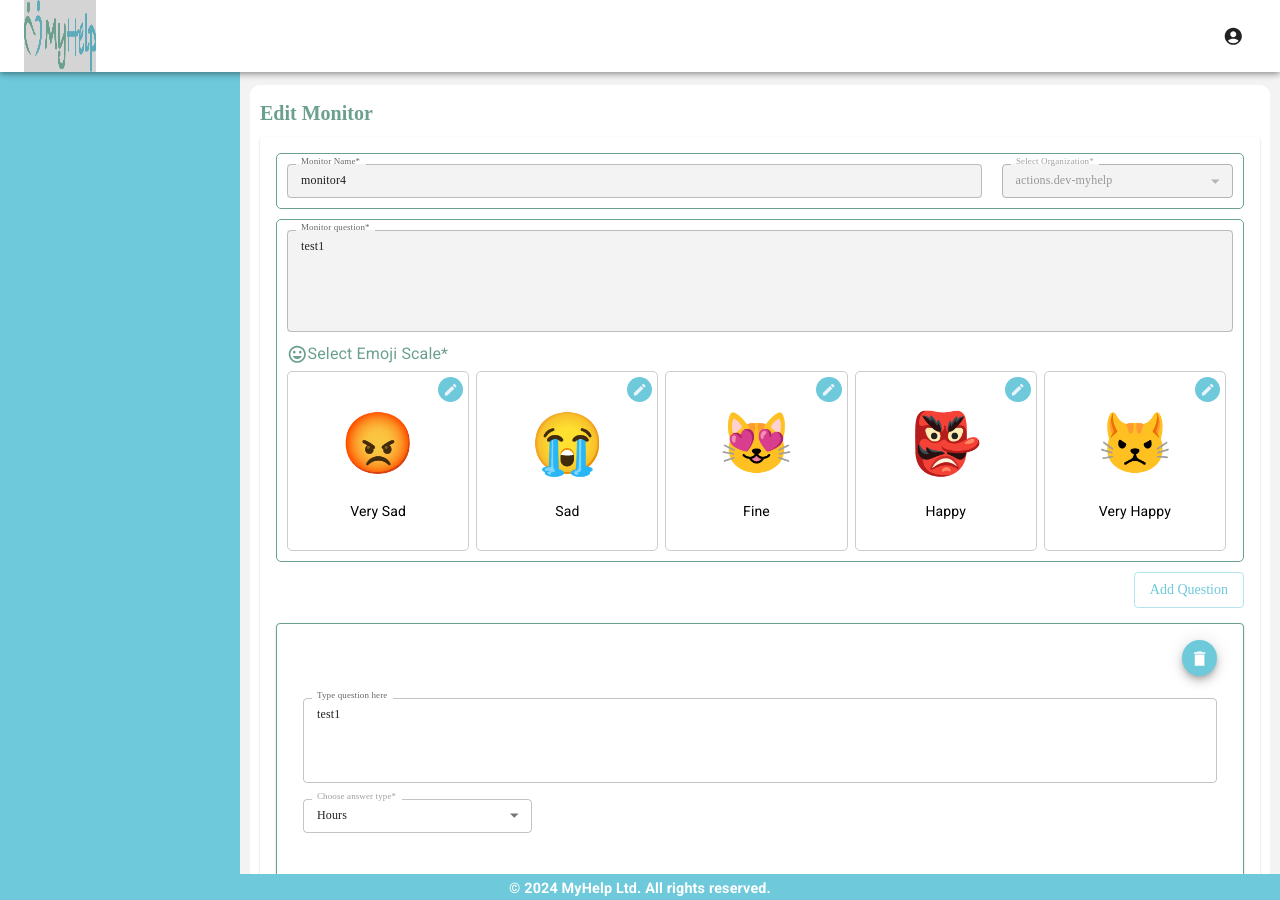
it: Admin edit monitor › should render delete question
Click the button with test id "iconButtonQuestion_1" at (1200, 658), box [1182,640,1217,676]
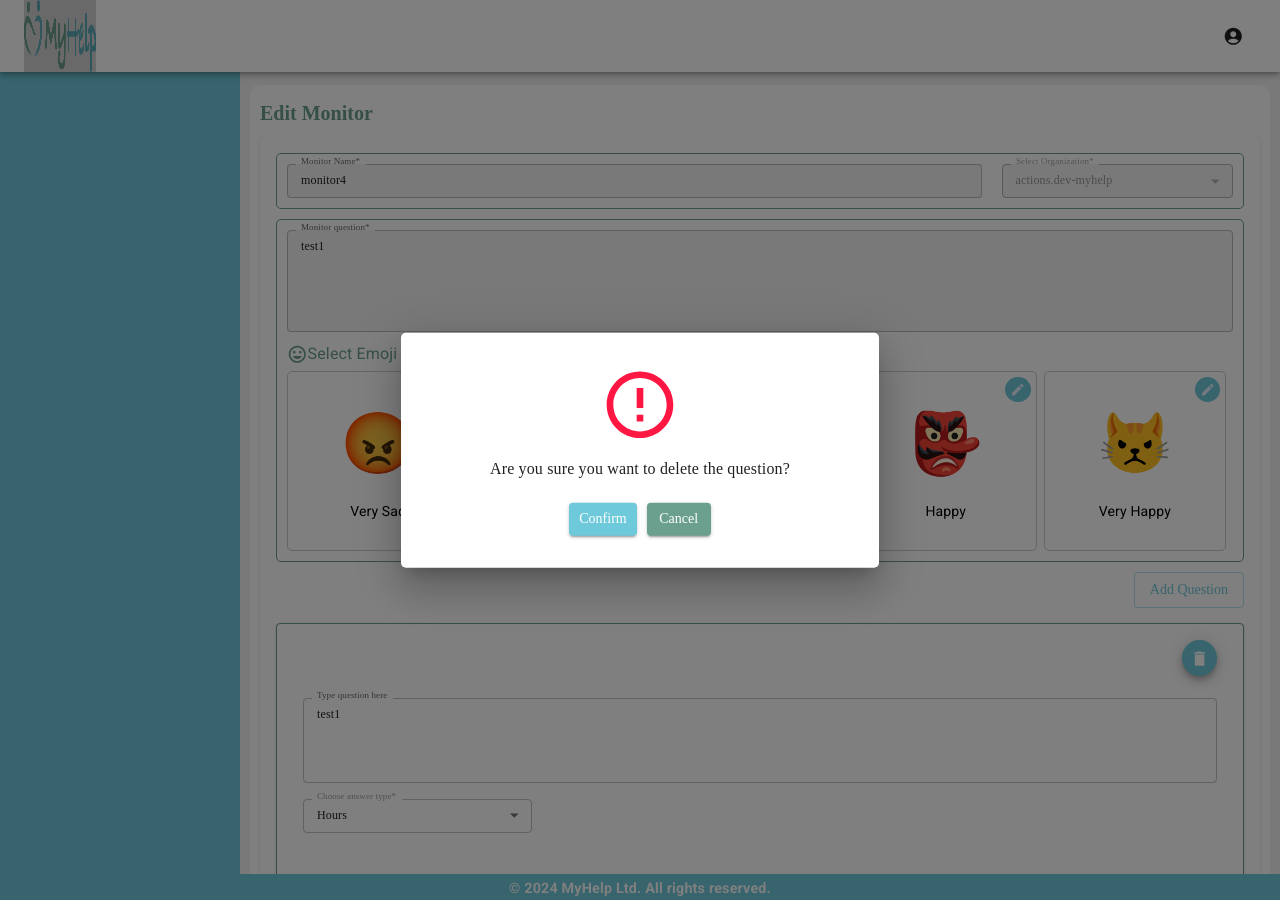
Expected: the button with test id "confirmButton" is shown
Click the button with test id "confirmButton" at (603, 519), box [569,503,637,535]
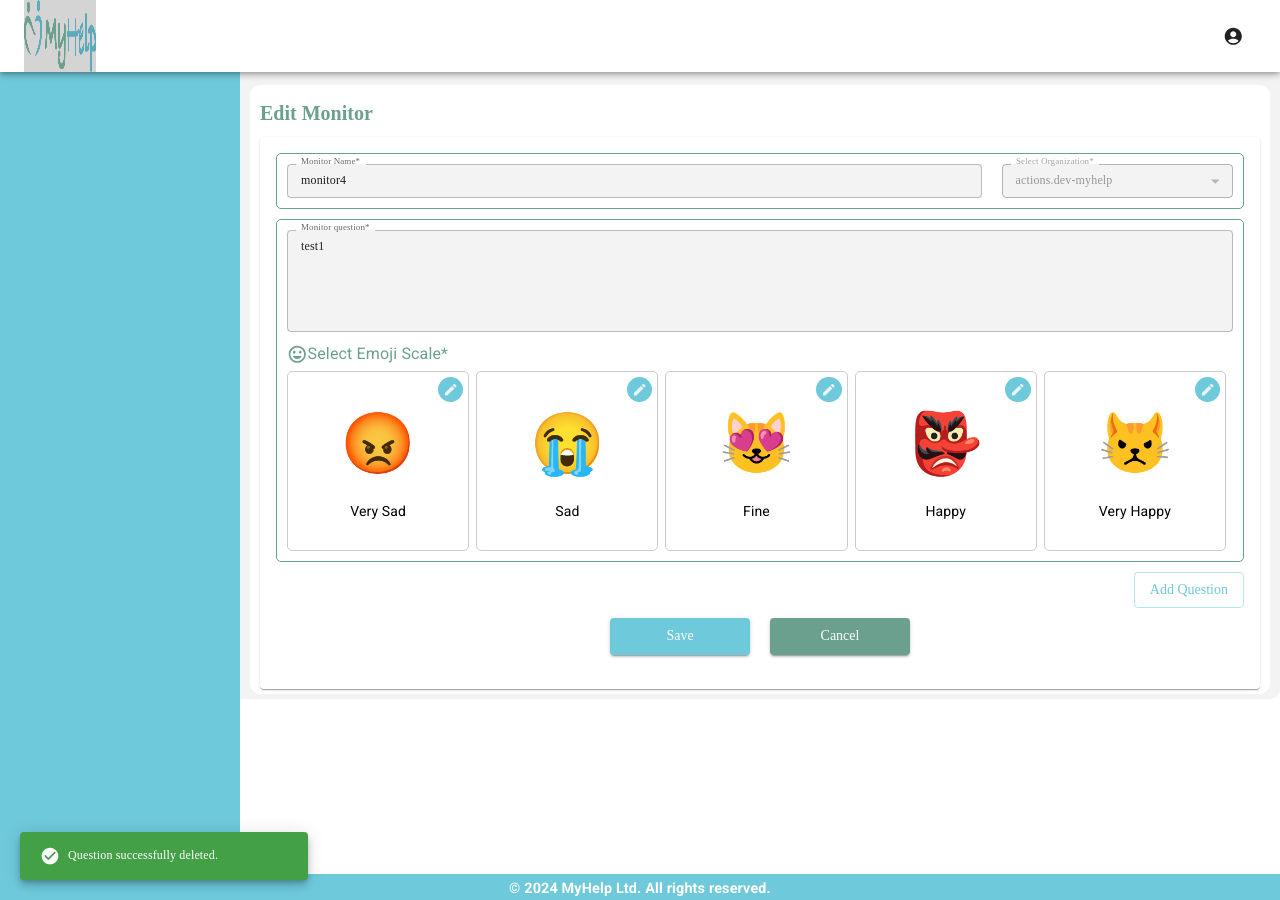
Expected: the text "Question successfully deleted." is shown, [40,846,218,866]
